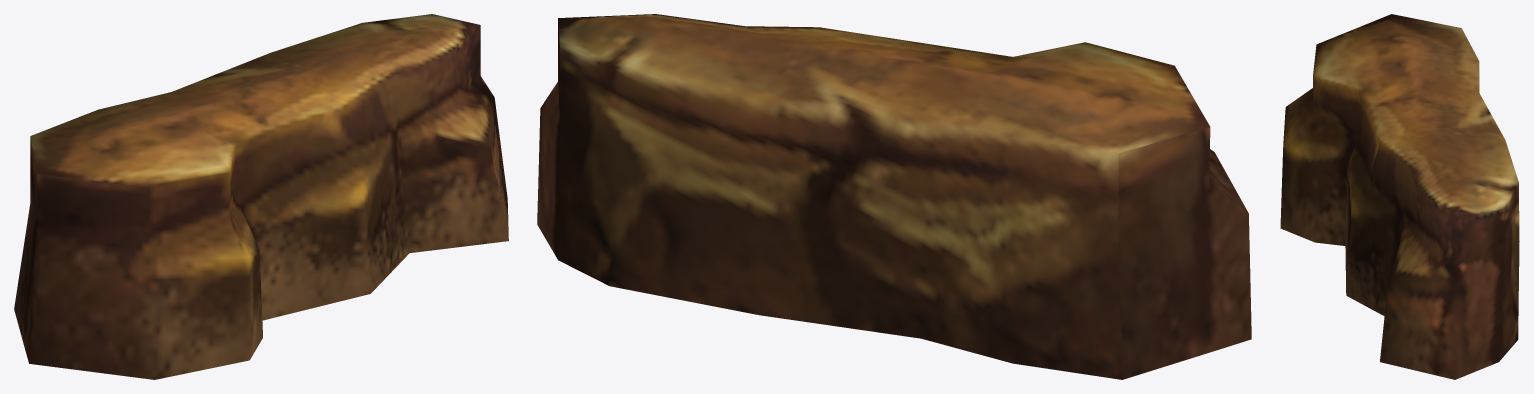
The model's file is ShiTou10.FBX.
The picture shows the model from 3 angles, left to right: view 1: azimuth 30°, elevation 25°; view 2: azimuth 150°, elevation 25°; view 3: azimuth 270°, elevation 25°; orthographic projection. The views are drawn at different scales.
Visible parts, largest first — view 1: ShiTou10; view 2: ShiTou10; view 3: ShiTou10.
Part boxes in pixels (x1,y1,x2,y2): ShiTou10: (14,14,508,379); ShiTou10: (537,14,1251,379); ShiTou10: (1280,14,1519,379).
Size of the model in its own units: 222 by 75.18 by 101.
